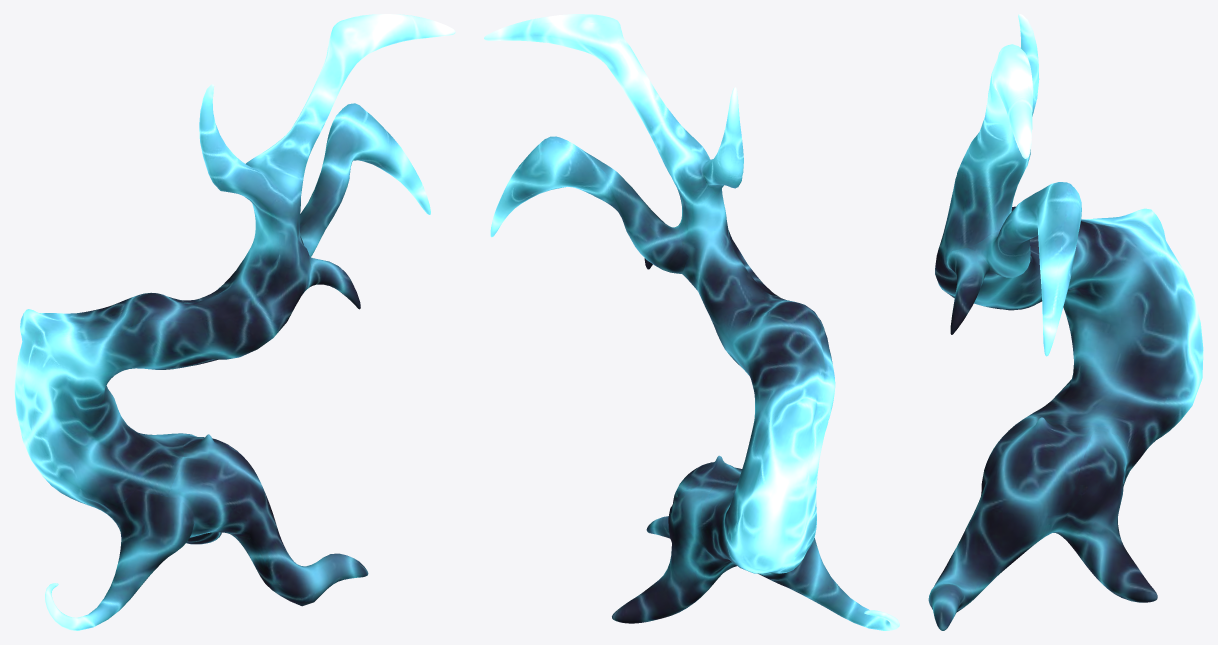
File: caos_sts_clawplant_01b_v35.glb
3 views of the same model, side by side, from view 1: azimuth 30°, elevation 25°; view 2: azimuth 150°, elevation 25°; view 3: azimuth 270°, elevation 25° (orthographic). The views are drawn at different scales.
Visible parts, largest first — view 1: caos_sts_clawplant_01b; view 2: caos_sts_clawplant_01b; view 3: caos_sts_clawplant_01b.
Part boxes in pixels (bbox=[...]): caos_sts_clawplant_01b: bbox=[14, 14, 455, 630]; caos_sts_clawplant_01b: bbox=[484, 14, 899, 630]; caos_sts_clawplant_01b: bbox=[928, 14, 1203, 630].
Size of the model in its own units: 4.63 by 5.92 by 2.43.
1 material, 1 textured.
